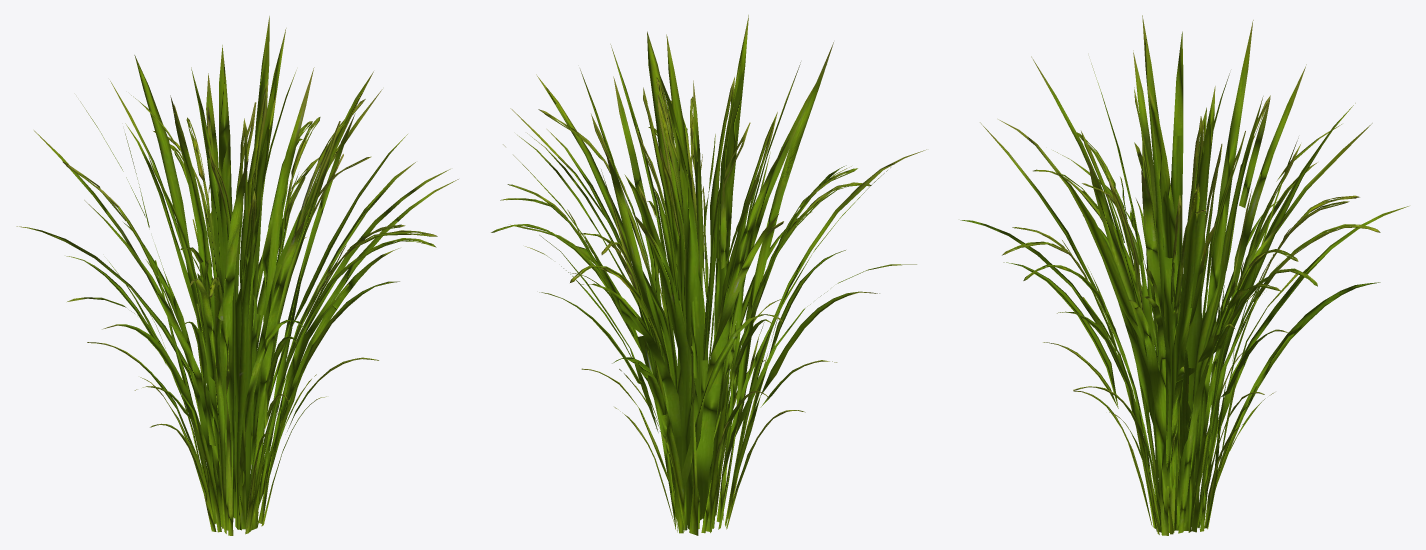
The model's file is suitou_003.glb.
3 views of the same model, side by side, from view 1: azimuth 30°, elevation 25°; view 2: azimuth 150°, elevation 25°; view 3: azimuth 270°, elevation 25° (orthographic). The views are drawn at different scales.
Parts seen in each view (by area): view 1: tripo_node_a3983c29-c264-4f87-be8f-20a4069da45a; view 2: tripo_node_a3983c29-c264-4f87-be8f-20a4069da45a; view 3: tripo_node_a3983c29-c264-4f87-be8f-20a4069da45a.
Boxes of the visible parts, left/top/right/bottom form: tripo_node_a3983c29-c264-4f87-be8f-20a4069da45a: left=16, top=16, right=458, bottom=535; tripo_node_a3983c29-c264-4f87-be8f-20a4069da45a: left=491, top=15, right=926, bottom=535; tripo_node_a3983c29-c264-4f87-be8f-20a4069da45a: left=960, top=15, right=1408, bottom=535.
Bounding box in the file's own units: 0.5249 × 0.6 × 0.5178.
Materials: 1 (1 with a texture image).
